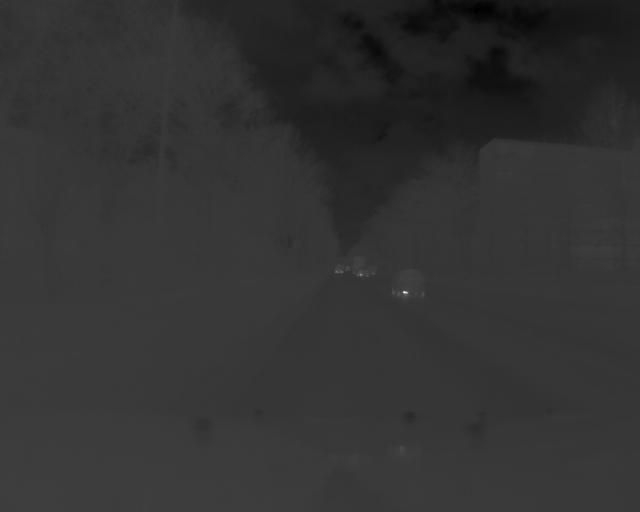car: (389, 267, 429, 299)
